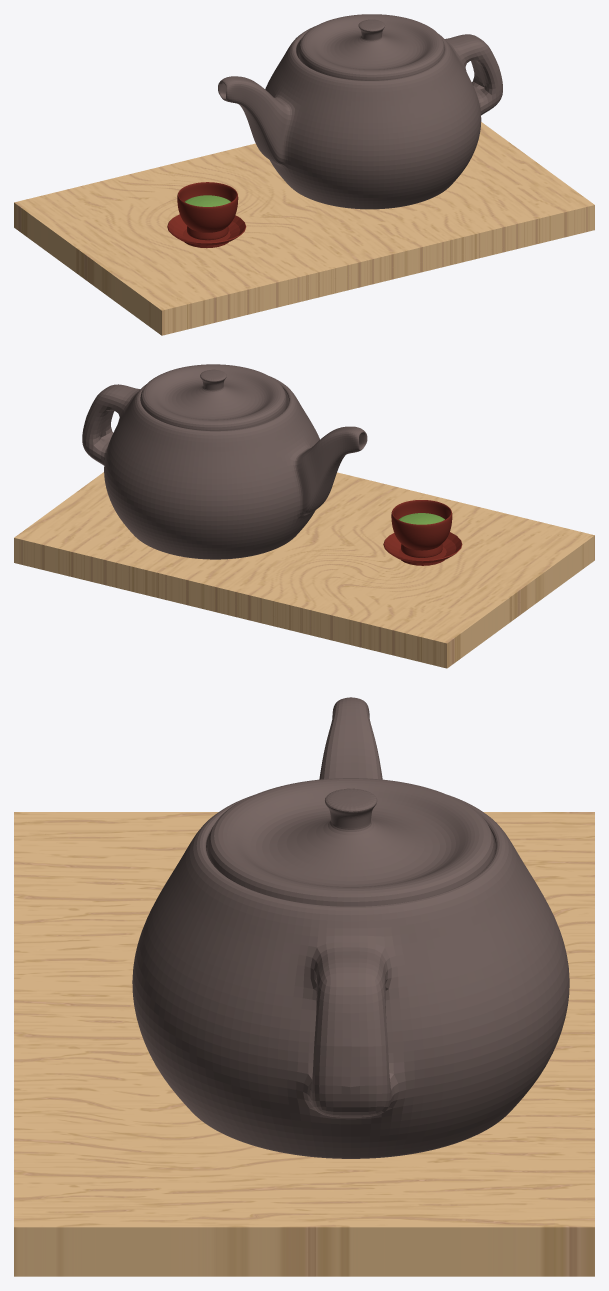
File: greentea.fbx
The picture shows the model from 3 angles, top to bottom: view 1: azimuth 30°, elevation 25°; view 2: azimuth 150°, elevation 25°; view 3: azimuth 270°, elevation 25°; orthographic projection. The views are drawn at different scales.
Parts seen in each view (by area): view 1: 구체.024; view 2: 구체.024; view 3: 구체.024.
Part boxes in pixels (x1,y1,x2,y2): 구체.024: (14,14,594,335); 구체.024: (14,364,594,668); 구체.024: (14,697,594,1276).
Bounding box in the file's own units: 291 × 113 × 172.
